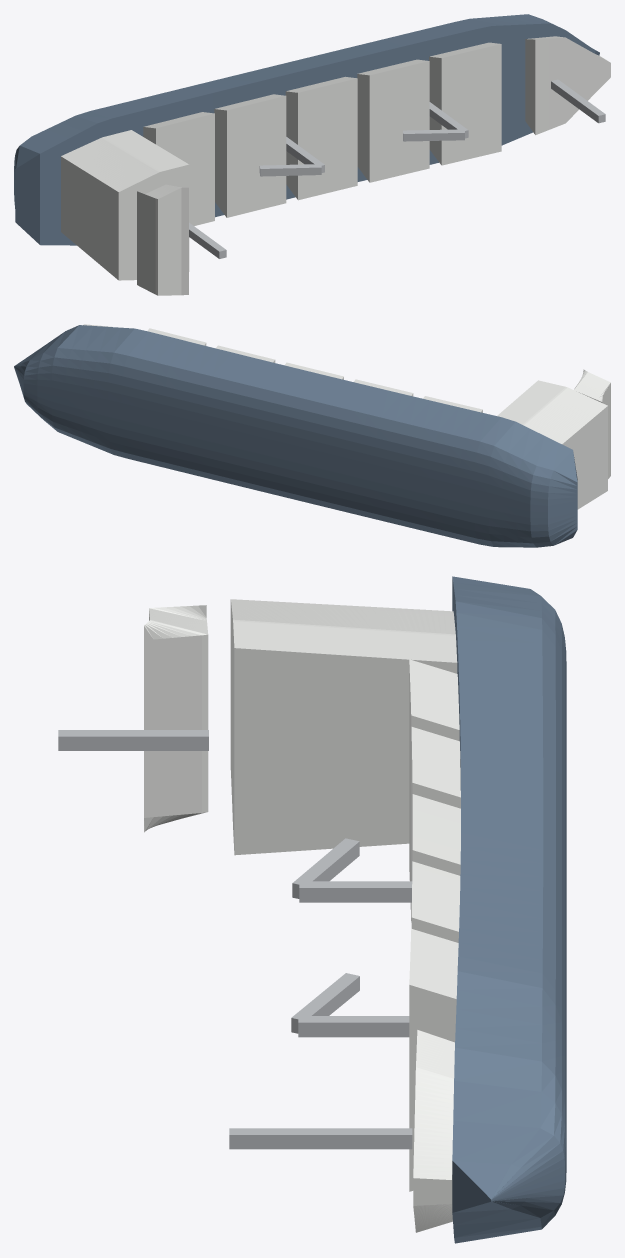
File: loft-bulker-slender.glb
The picture shows the model from 3 angles, top to bottom: view 1: azimuth 30°, elevation 25°; view 2: azimuth 150°, elevation 25°; view 3: azimuth 270°, elevation 25°; orthographic projection. The views are drawn at different scales.
Visible parts, largest first — view 1: loft-bulker-slender; view 2: loft-bulker-slender; view 3: loft-bulker-slender.
Part boxes in pixels (x1=…): loft-bulker-slender: x1=14, y1=14, x2=610, y2=295; loft-bulker-slender: x1=14, y1=324, x2=610, y2=547; loft-bulker-slender: x1=58, y1=576, x2=566, y2=1243.
Bounding box in the file's own units: 1.96 × 0.4 × 0.7655.
